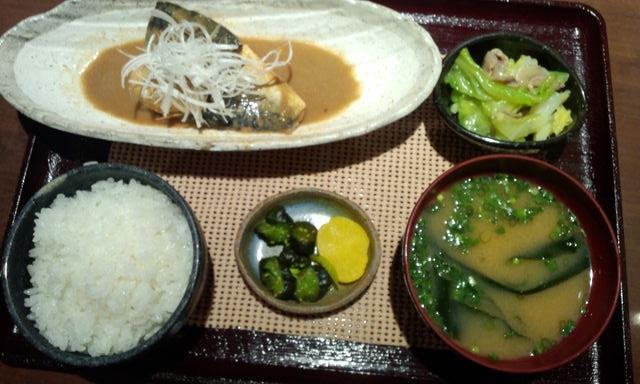rice: (24, 179, 193, 356)
